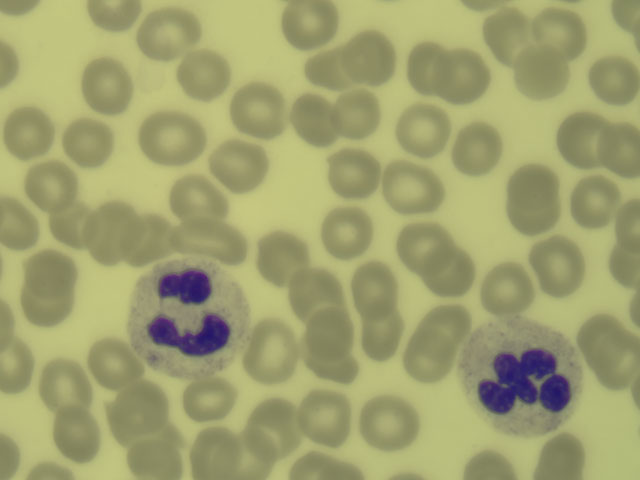RBC: (358, 393, 422, 453), (143, 111, 209, 165), (507, 166, 559, 232), (117, 429, 184, 480), (530, 241, 591, 296), (516, 48, 573, 101), (301, 389, 351, 449), (384, 164, 443, 214), (211, 141, 270, 189), (247, 399, 300, 452), (251, 321, 295, 384), (2, 106, 55, 158), (424, 247, 480, 295), (232, 86, 290, 132), (485, 259, 530, 318), (587, 337, 640, 386), (84, 58, 131, 113), (598, 122, 640, 183), (403, 333, 454, 383), (25, 160, 78, 208), (39, 360, 92, 407), (589, 54, 640, 102), (173, 221, 242, 256), (62, 119, 112, 167), (399, 108, 449, 156), (535, 7, 586, 54), (557, 115, 603, 166), (283, 2, 340, 43), (184, 378, 237, 422), (396, 225, 459, 262), (532, 437, 586, 480), (330, 151, 380, 197), (349, 35, 400, 80), (143, 9, 195, 53), (93, 201, 132, 259), (300, 349, 360, 386), (54, 406, 95, 460), (89, 343, 139, 386), (289, 269, 342, 309), (457, 124, 503, 170), (482, 12, 527, 59), (180, 53, 228, 97), (116, 388, 170, 427), (323, 209, 369, 254), (22, 252, 79, 288), (19, 291, 79, 325), (225, 436, 276, 476), (1, 196, 36, 254), (257, 234, 302, 278), (288, 453, 361, 480), (575, 178, 616, 226), (341, 87, 376, 142), (311, 313, 359, 352), (132, 210, 170, 259), (352, 264, 392, 310), (292, 100, 334, 143), (457, 451, 519, 480), (364, 312, 400, 361), (448, 56, 488, 99), (603, 243, 640, 289), (170, 179, 220, 213), (1, 336, 29, 392), (429, 307, 470, 345), (192, 431, 225, 478), (89, 1, 143, 29), (408, 44, 445, 84), (304, 48, 343, 85), (581, 320, 620, 353), (56, 205, 88, 245), (606, 2, 640, 38), (619, 197, 640, 246), (1, 298, 18, 351), (1, 37, 17, 87), (1, 2, 39, 21), (1, 429, 13, 480), (34, 462, 67, 480)
WBC: (134, 264, 242, 367), (473, 326, 579, 428)
